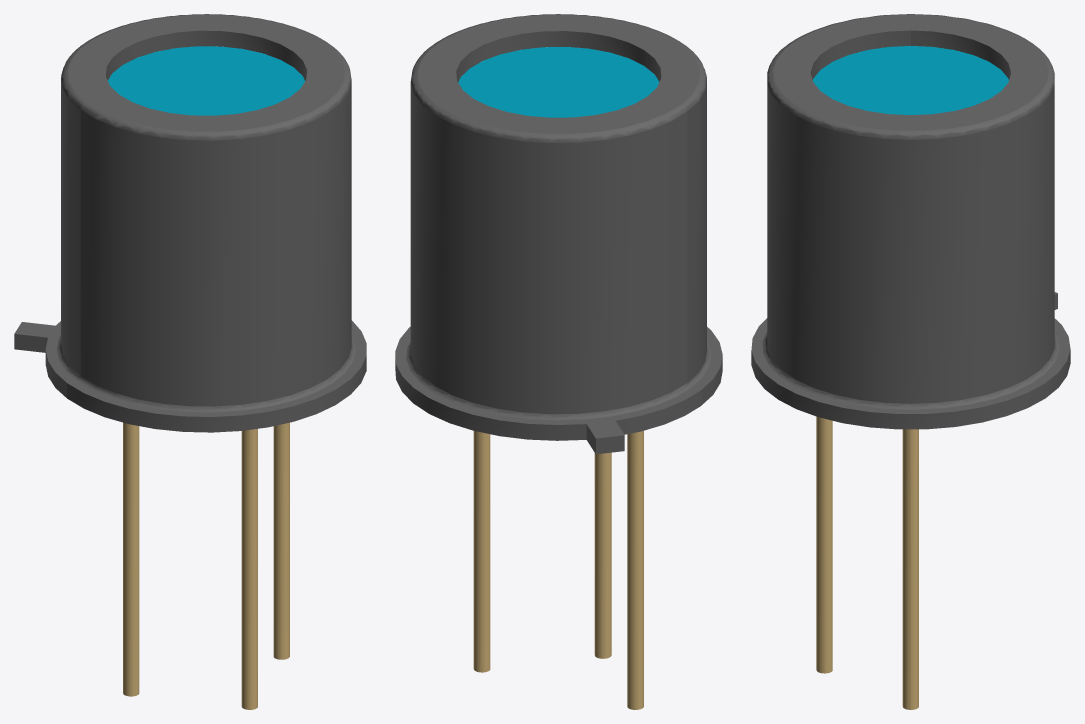
Rendered from kc-to-11-3_window.glb.
The picture shows the model from 3 angles, left to right: view 1: azimuth 30°, elevation 25°; view 2: azimuth 150°, elevation 25°; view 3: azimuth 270°, elevation 25°; orthographic projection. The views are drawn at different scales.
Parts seen in each view (by area): view 1: 0.16666666666666666_0.16666666666666666_0.16666666666666666_, 0.75_0.5_0.25_0.9, 0_0.3333333333333333_0.5_0; view 2: 0.16666666666666666_0.16666666666666666_0.16666666666666666_, 0.75_0.5_0.25_0.9, 0_0.3333333333333333_0.5_0; view 3: 0.16666666666666666_0.16666666666666666_0.16666666666666666_, 0_0.3333333333333333_0.5_0, 0.75_0.5_0.25_0.9.
Part boxes in pixels (x1,y1,x2,y2): 0.16666666666666666_0.16666666666666666_0.16666666666666666_: (14,14,366,432); 0.75_0.5_0.25_0.9: (123,422,289,709); 0_0.3333333333333333_0.5_0: (108,46,304,115); 0.16666666666666666_0.16666666666666666_0.16666666666666666_: (395,14,722,454); 0.75_0.5_0.25_0.9: (473,430,643,709); 0_0.3333333333333333_0.5_0: (458,47,659,117); 0.16666666666666666_0.16666666666666666_0.16666666666666666_: (751,14,1070,429); 0_0.3333333333333333_0.5_0: (813,46,1008,114); 0.75_0.5_0.25_0.9: (816,416,918,709).
Size of the model in its own units: 0.9386 by 1.94 by 0.9392.
